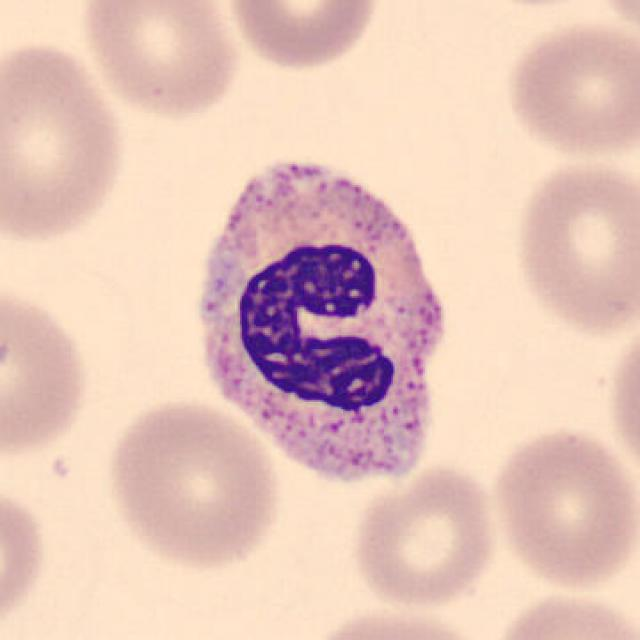Neutrophil: (180, 141, 464, 503)
RBC: (101, 395, 286, 573), (0, 34, 132, 250), (487, 422, 638, 594), (508, 152, 638, 340), (347, 458, 503, 612), (76, 0, 245, 123), (500, 16, 638, 162), (0, 278, 94, 462), (222, 0, 384, 74), (0, 478, 53, 640), (489, 585, 638, 640), (299, 603, 494, 640), (602, 315, 640, 488), (586, 0, 640, 42)
